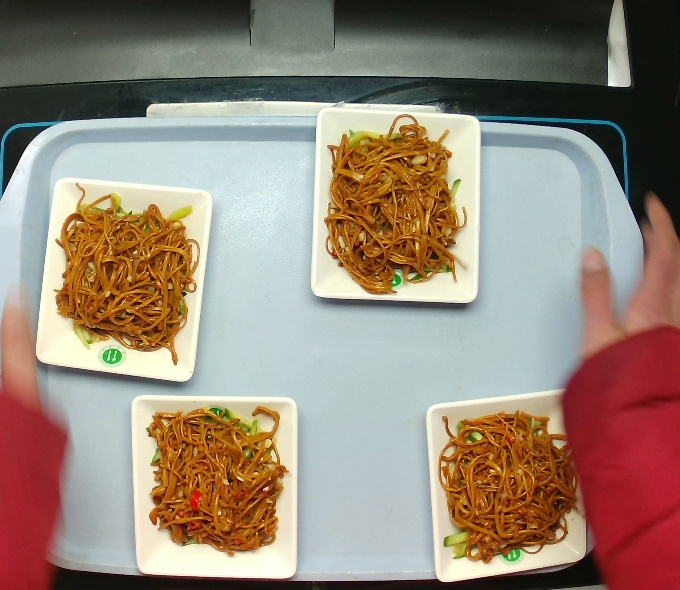wcq-LiangBanChongCaoHua: (324, 113, 465, 296), (55, 194, 199, 366), (145, 405, 290, 556), (434, 409, 579, 558)
